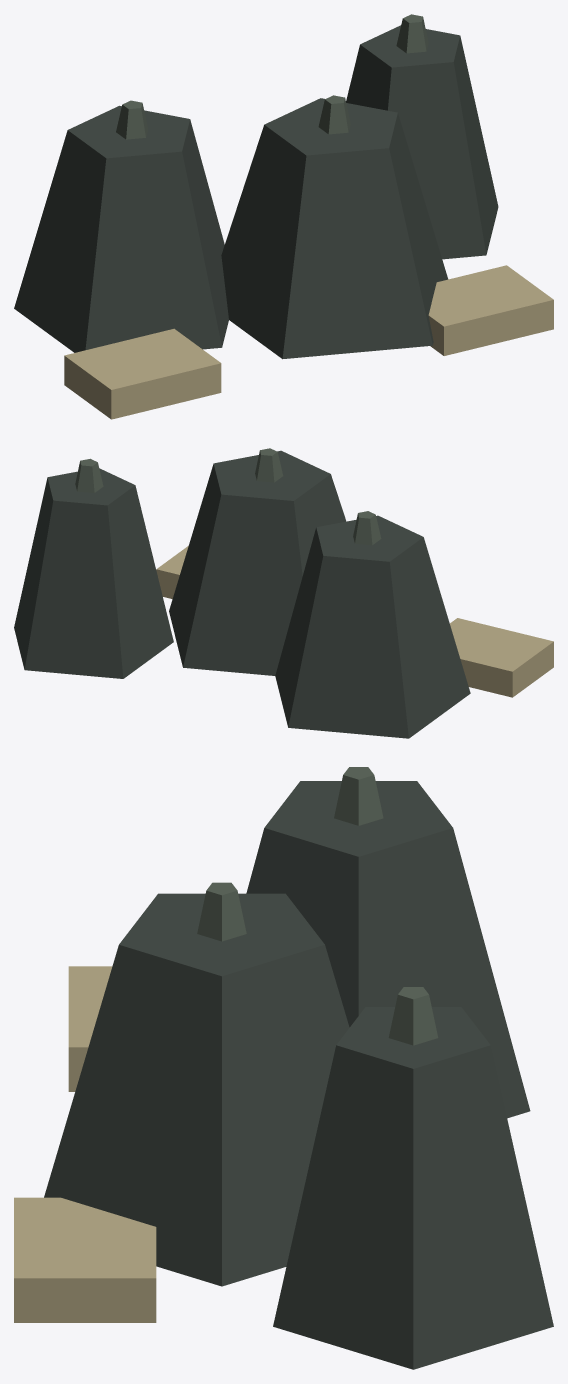
Rendered from trash.glb.
3 renders of one model, top to bottom at view 1: azimuth 30°, elevation 25°; view 2: azimuth 150°, elevation 25°; view 3: azimuth 270°, elevation 25°, orthographic. The views are drawn at different scales.
Parts seen in each view (by area): view 1: trash; view 2: trash; view 3: trash.
Boxes of the visible parts, box(x1,y1,x2,y2) form: trash: box(14, 14, 553, 419); trash: box(14, 448, 553, 738); trash: box(14, 767, 553, 1369).
Size of the model in its own units: 1.59 by 0.655 by 0.9868.
